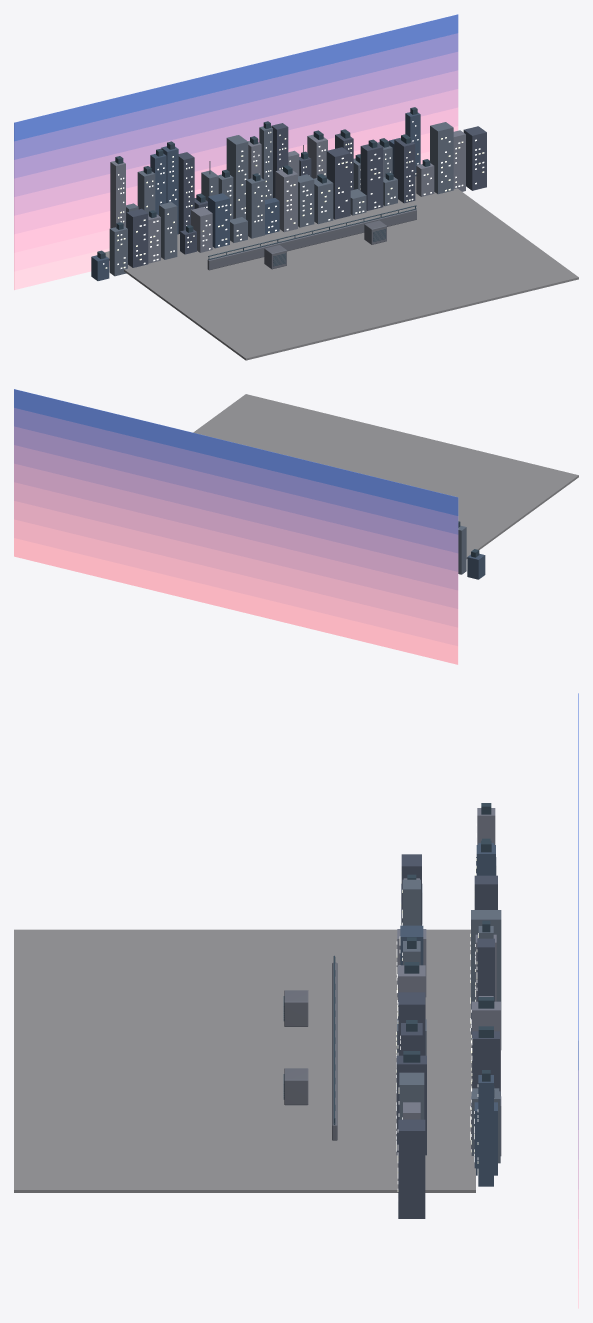
Rendered from VenueRooftop.fbx.
3 renders of one model, top to bottom at view 1: azimuth 30°, elevation 25°; view 2: azimuth 150°, elevation 25°; view 3: azimuth 270°, elevation 25°, orthographic. The views are drawn at different scales.
Visible parts, largest first — view 1: VenueRooftop; view 2: VenueRooftop; view 3: VenueRooftop.
Part boxes in pixels (x1=…): VenueRooftop: x1=14, y1=14, x2=578, y2=360; VenueRooftop: x1=14, y1=389, x2=578, y2=664; VenueRooftop: x1=14, y1=693, x2=578, y2=1308.
Bounding box in the file's own units: 32 × 22.01 × 11.53.
